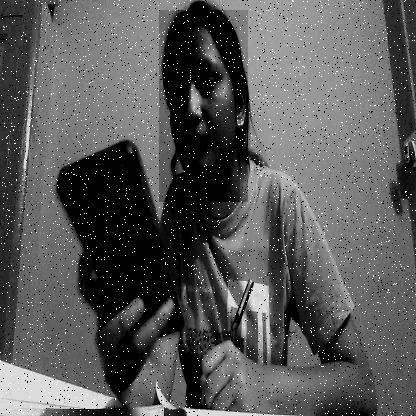Distracted: (159, 10, 248, 202)
